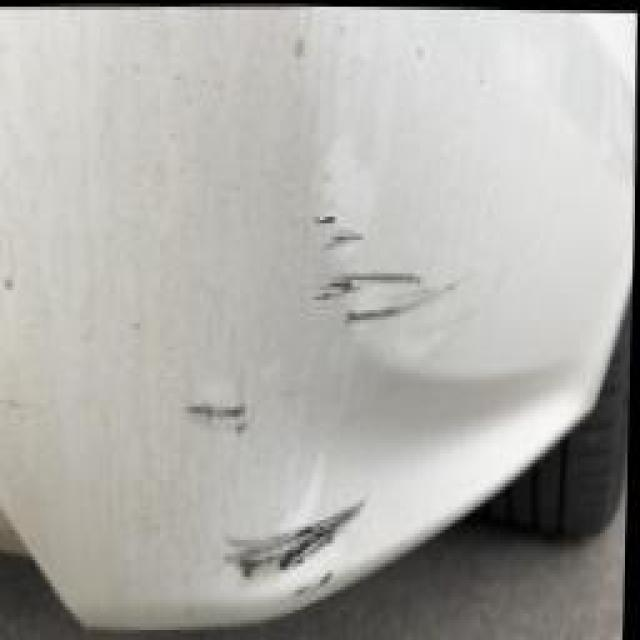Bumper: (0, 0, 638, 640)
